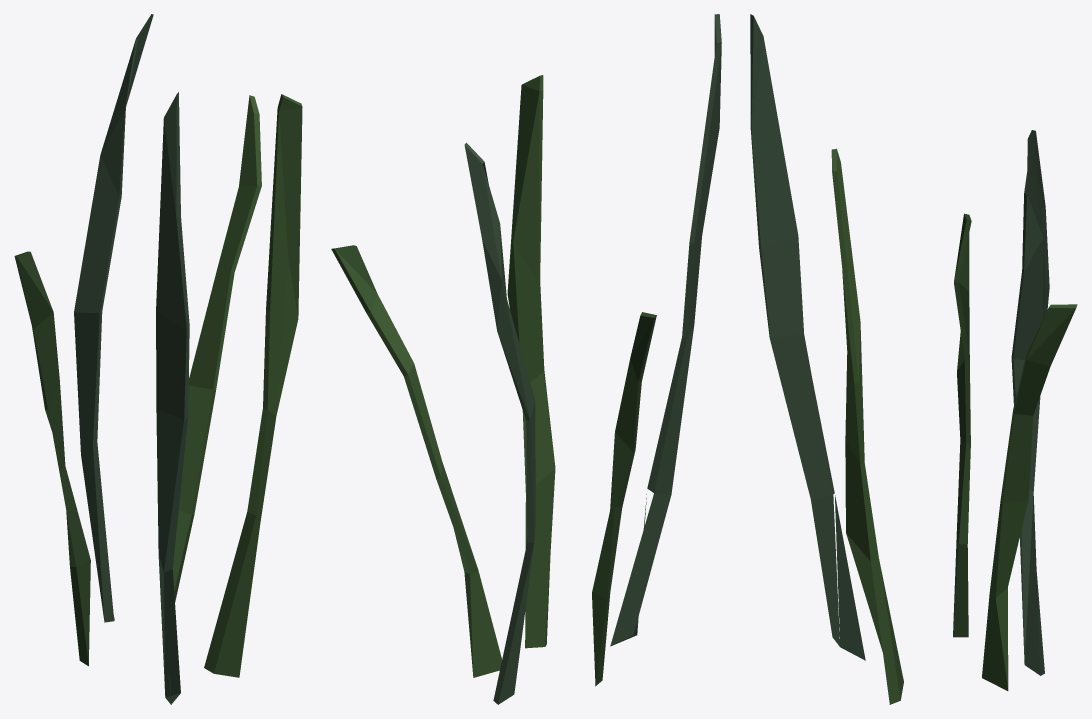
Rendered from Grass_05.glb.
The picture shows the model from 3 angles, left to right: view 1: azimuth 30°, elevation 25°; view 2: azimuth 150°, elevation 25°; view 3: azimuth 270°, elevation 25°; orthographic projection. The views are drawn at different scales.
Visible parts, largest first — view 1: Grass_05; view 2: Grass_05; view 3: Grass_05.
Part boxes in pixels (left/top/right/bottom): Grass_05: left=14, top=14, right=302, bottom=704; Grass_05: left=331, top=14, right=721, bottom=704; Grass_05: left=750, top=14, right=1077, bottom=704.
Size of the model in its own units: 0.547 by 1.18 by 0.5576.
Materials: 1 (1 with a texture image).
